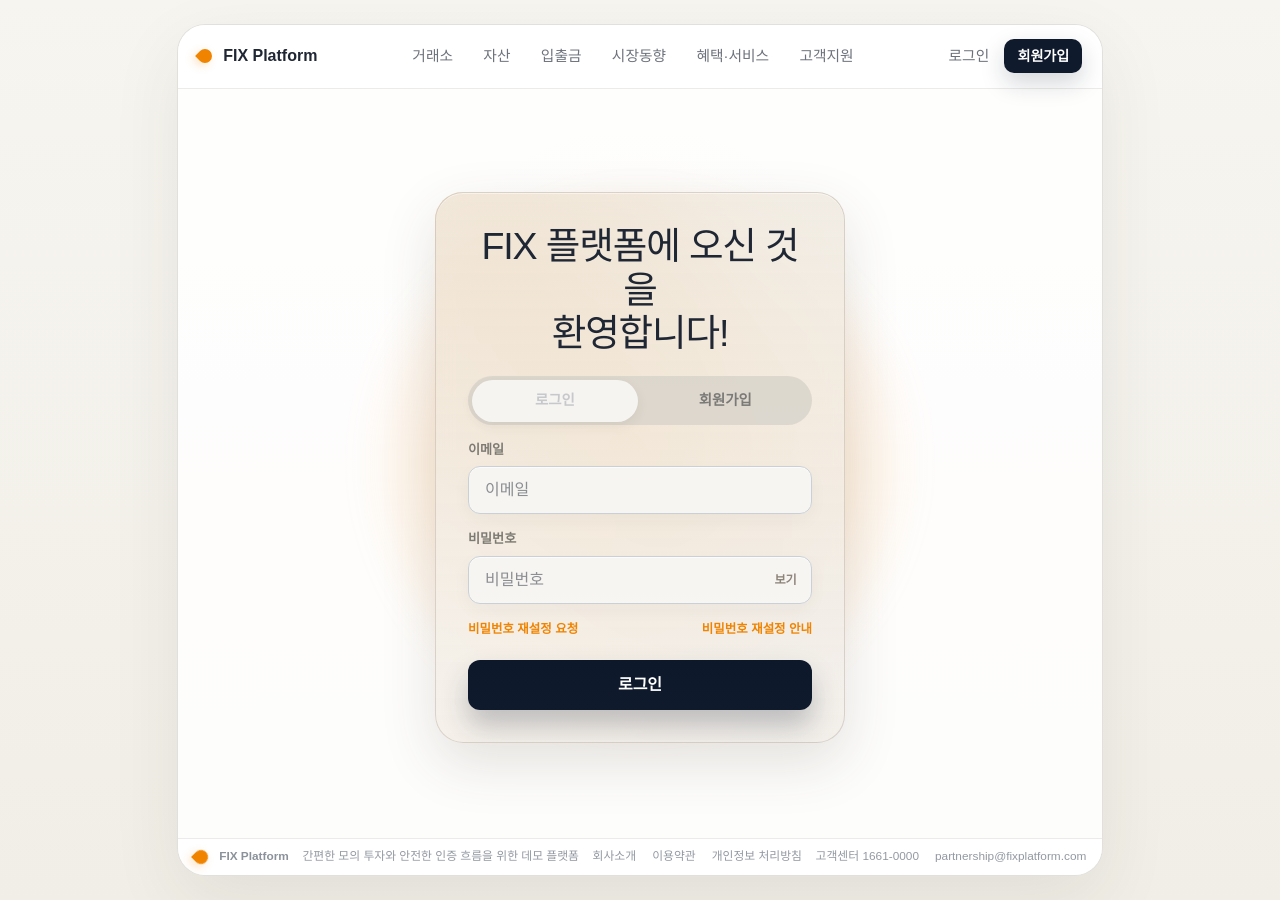
Scenario: App auth flow › renders the standardized auth error message when login fails
In the field with test id "login-email": (640, 490) [468,466,812,514], type "demo@fix.com"
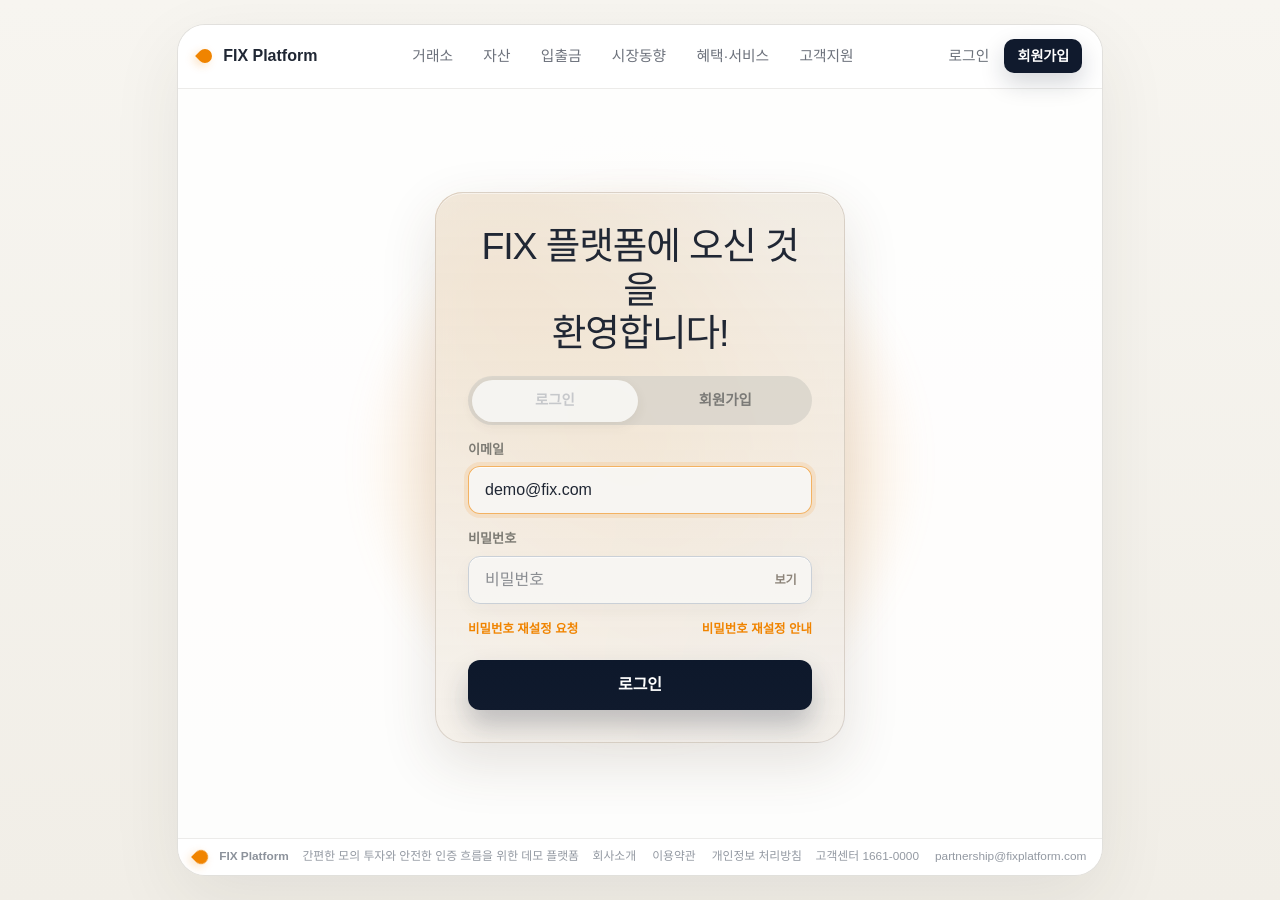
In the password field with test id "login-password": (640, 580) [468,556,812,604], type "wrong-password"
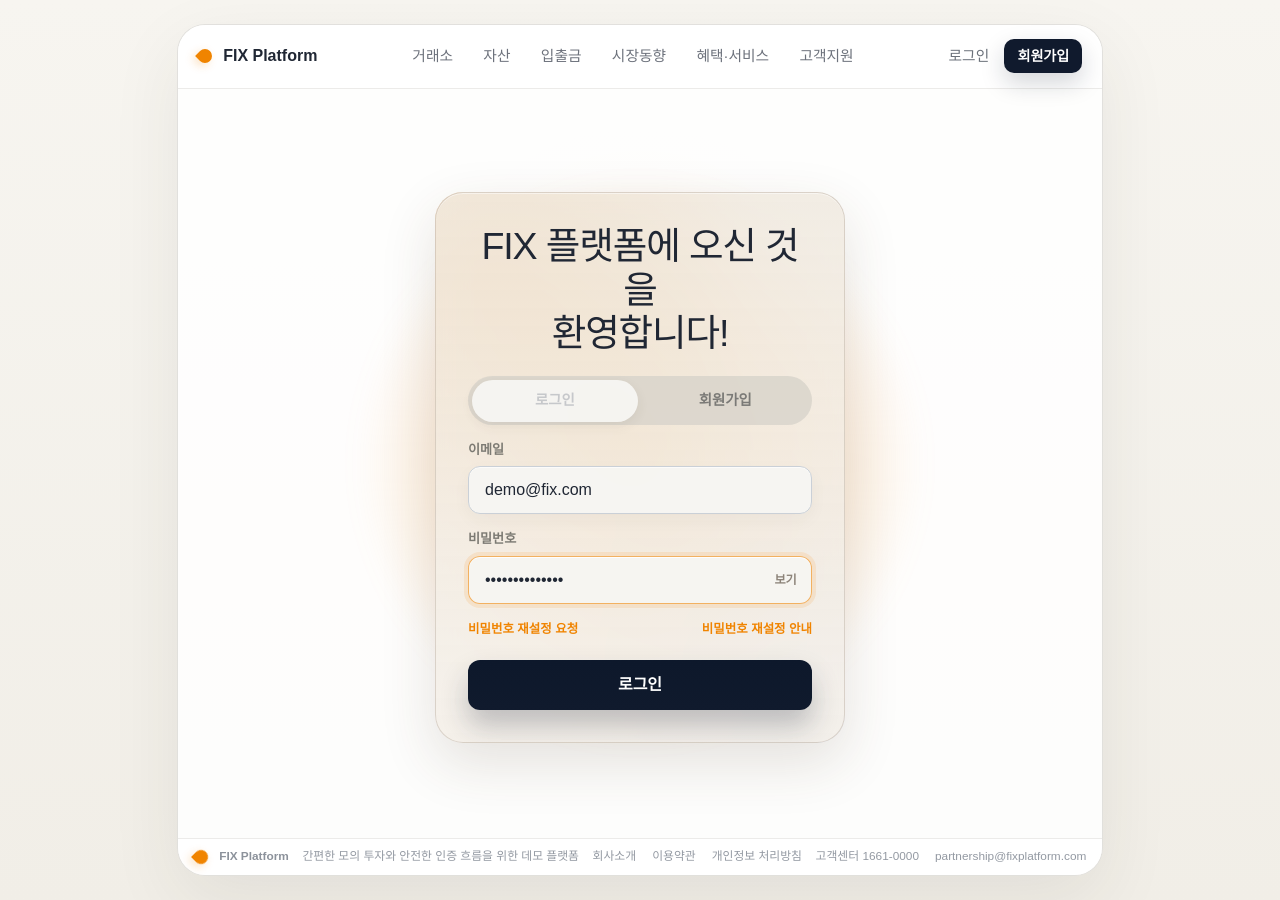
Click the button with test id "login-submit": (640, 685) [468,660,812,710]
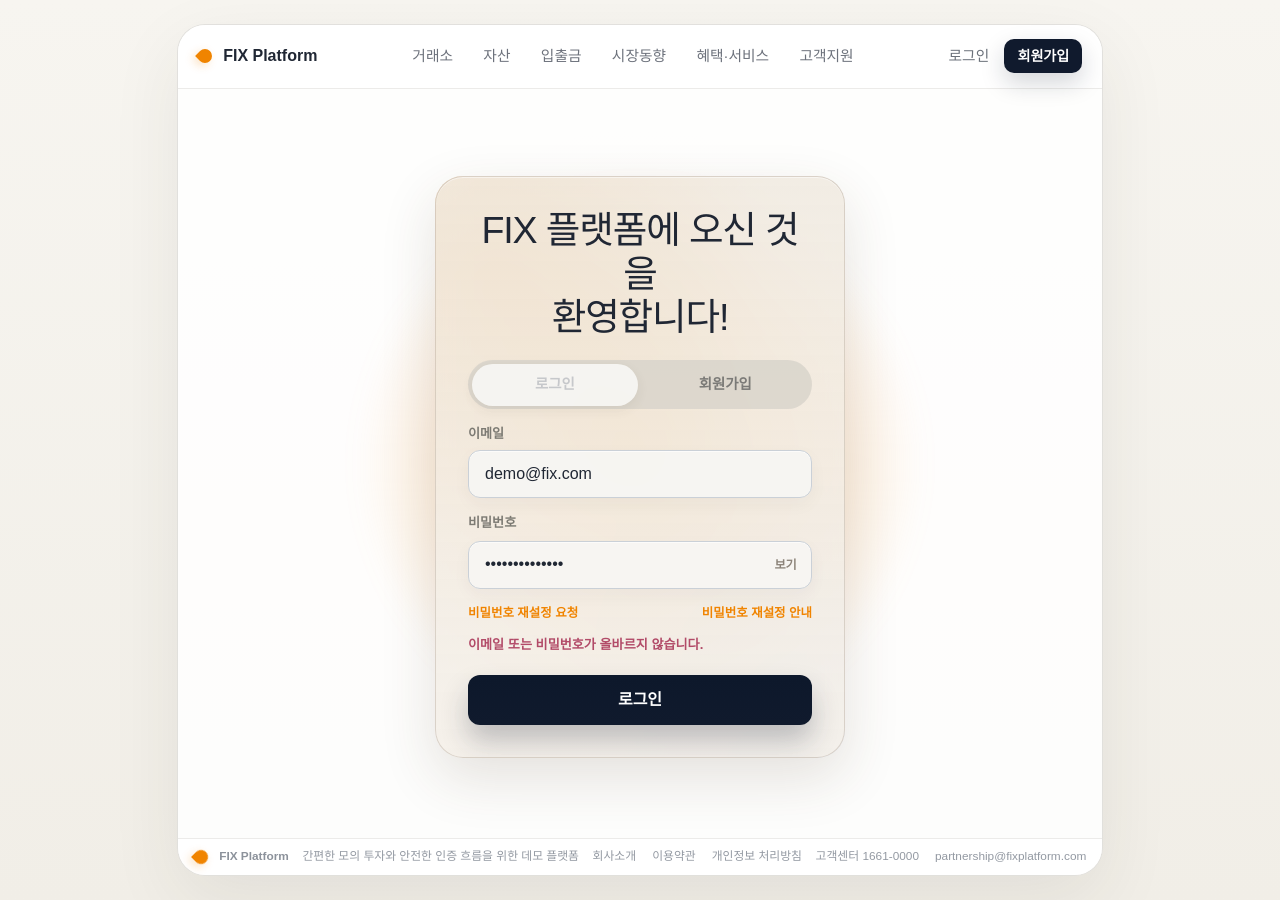
Expected: the message reads "이메일 또는 비밀번호가 올바르지 않습니다.", [468,637,703,652]
Expected: the number of messages is 1, [468,637,703,652]
